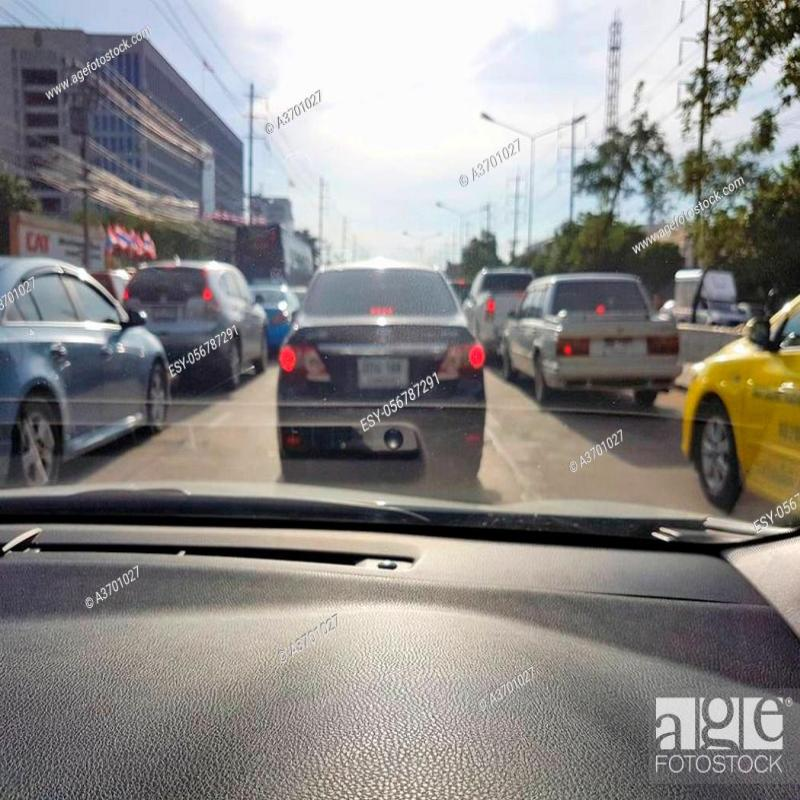car: (4, 247, 181, 492), (687, 286, 800, 504), (513, 250, 663, 411), (130, 237, 262, 385)
